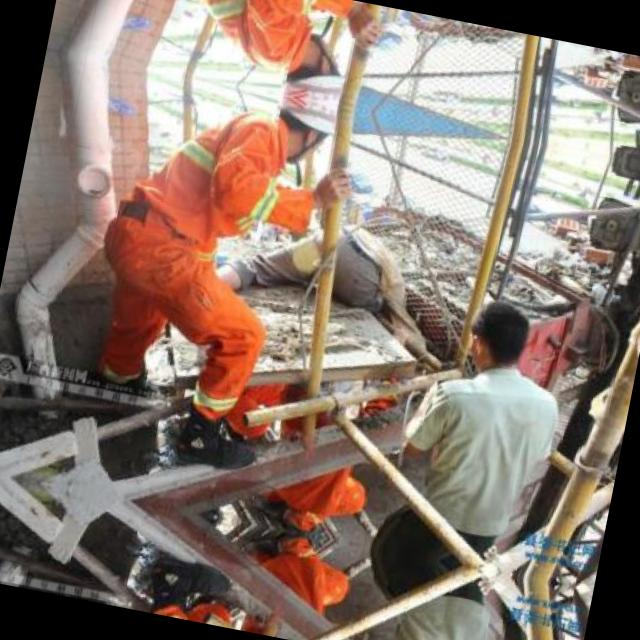helmet: (260, 94, 334, 168), (272, 31, 347, 104)
